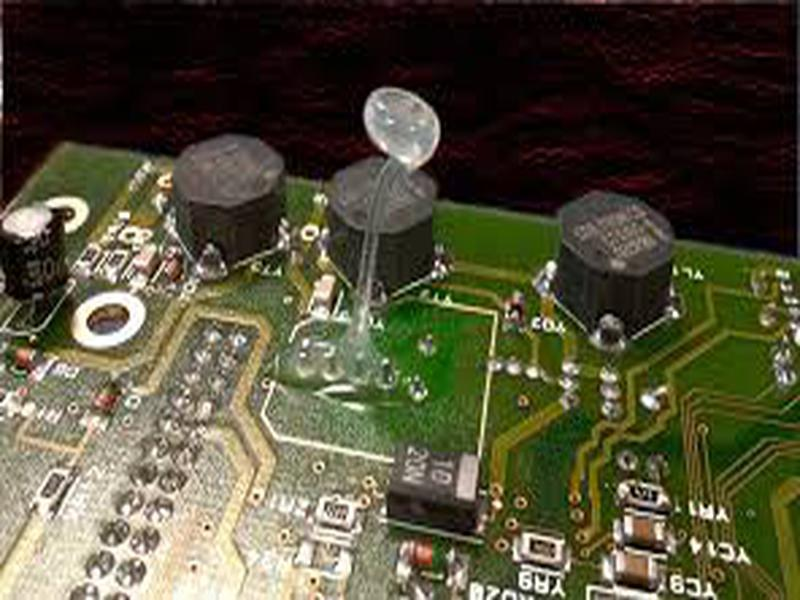SMD capacitor: (619, 516, 666, 553)
